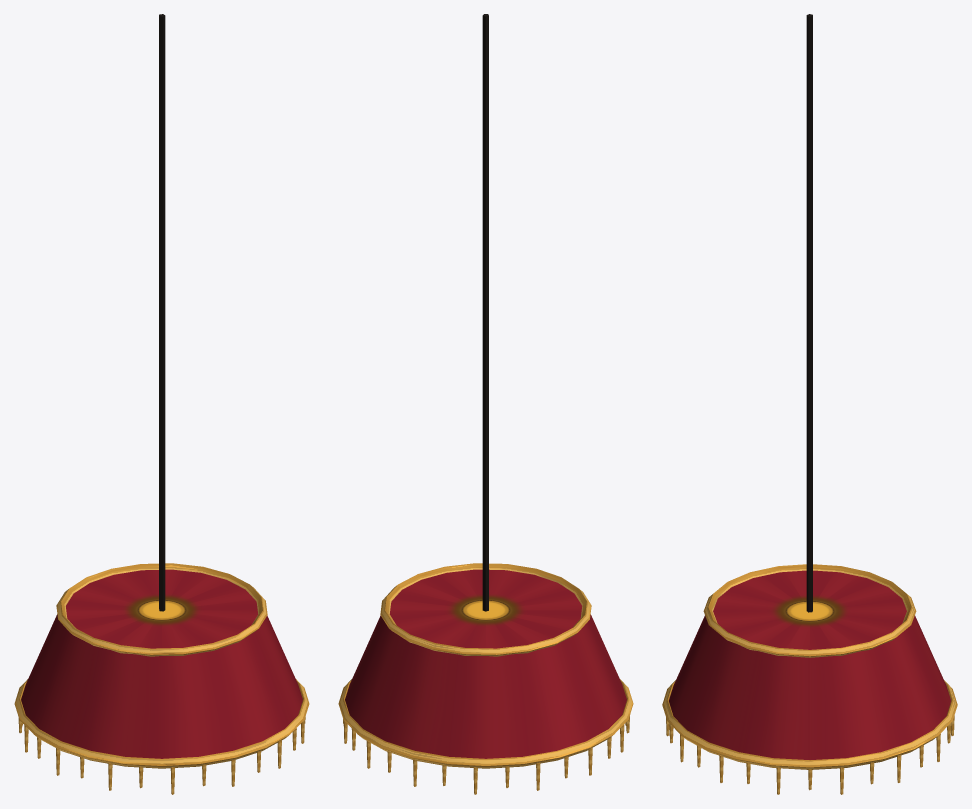
Rendered from Lamp_Fringe.fbx.
3 views of the same model, side by side, from view 1: azimuth 30°, elevation 25°; view 2: azimuth 150°, elevation 25°; view 3: azimuth 270°, elevation 25° (orthographic).
Parts seen in each view (by area): view 1: Lamp_Fringe; view 2: Lamp_Fringe; view 3: Lamp_Fringe.
Part boxes in pixels (left/top/right/bottom): Lamp_Fringe: left=14, top=14, right=309, bottom=794; Lamp_Fringe: left=338, top=14, right=633, bottom=794; Lamp_Fringe: left=662, top=14, right=957, bottom=794.
Bounding box in the file's own units: 0.872 × 2.34 × 0.872.
2 materials, 2 textured.
